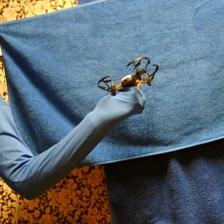drone: (96, 55, 159, 97)
